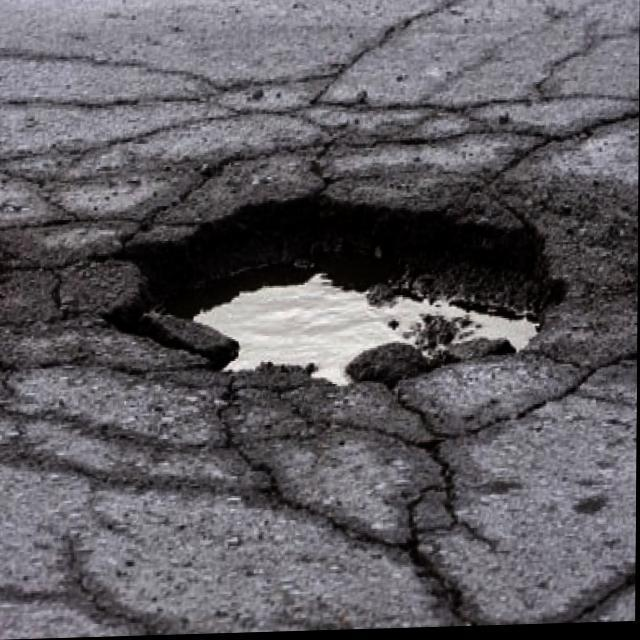Pothole: (108, 197, 557, 382)
